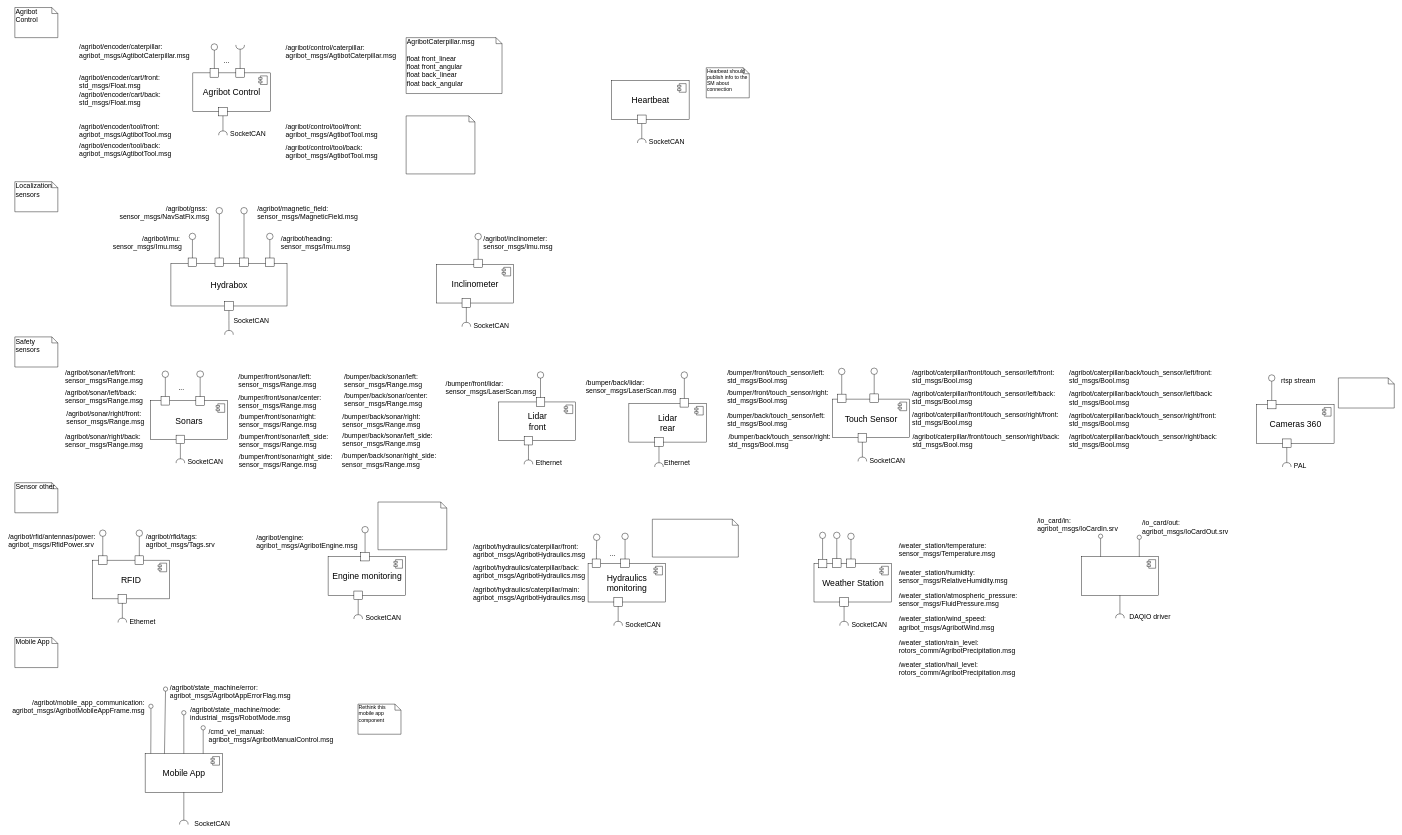
This 1402x835 diagram has some shape labels left out. The shapes that lost their labels are listed below. From the top down, each one's centre as x and y in pixels, then its label:
point 440,144: AgribotTool.msg float tpl_height float tpl_angle float pto_rpm
point 1366,392: without ROS
point 412,526: AgribotEngine.msg float rpm float fuel_level float fuel_temperature
point 695,538: AgribotHydraulics.msg Temperature temperature FluidPressure pressure
point 1120,575: IO Card
